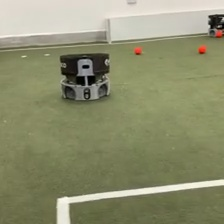ball: (198, 43, 206, 53), (134, 46, 142, 55), (215, 30, 222, 37)
goal: (104, 7, 224, 45)
robot: (58, 51, 111, 101), (207, 11, 224, 37)
